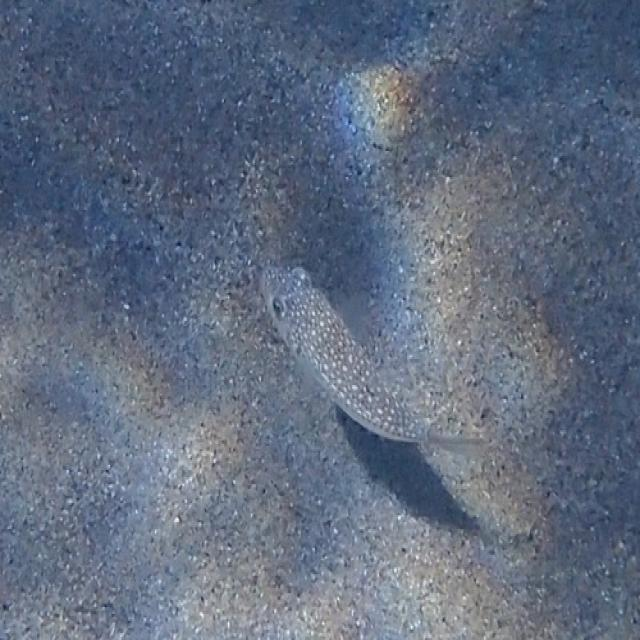Balik: (260, 266, 476, 450)
